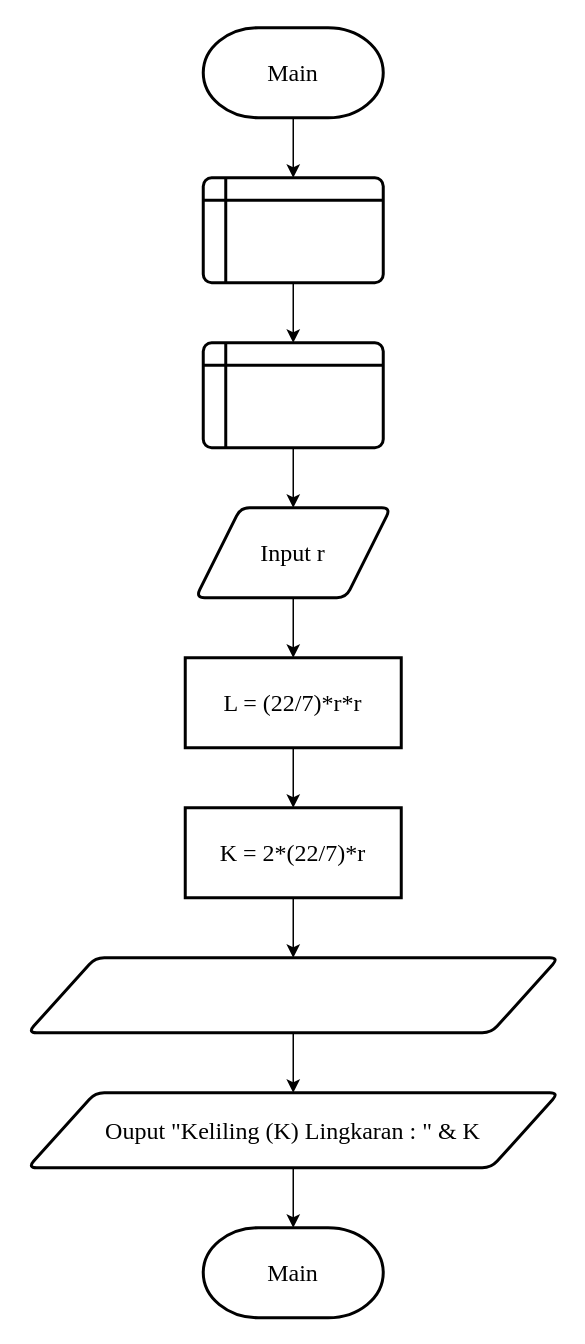
Some shapes in this 585 by 1344 pixel diagram are drawn without their labels. Each missing label, with the centre of its shape:
Integer r: [292,230]
Output "Luas (L) Lingkaran : " & L: [293,995]
Real L, K: [292,394]
